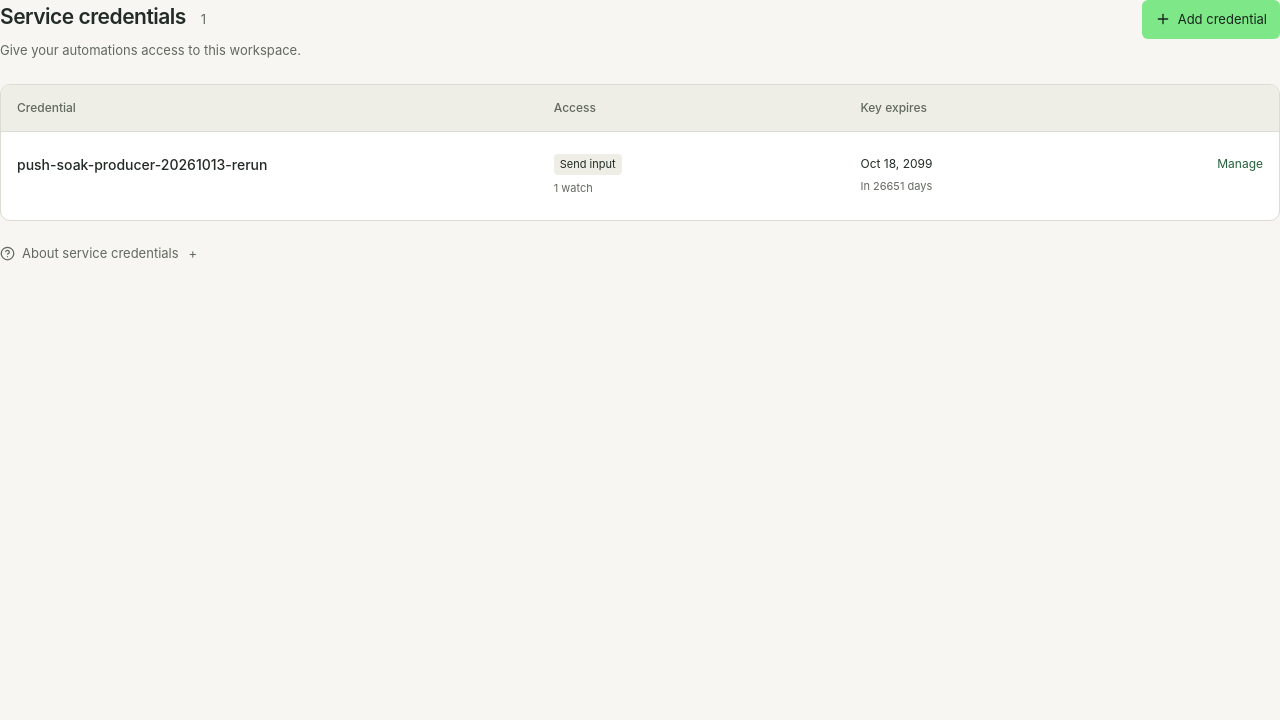
Test: unsupported push access is omitted and clipboard failures allow manual copying
Expected: the button "push-soak-producer-20261013-rerun" is shown, [17,154,267,176]
Click the button "Add credential" at (1211, 19), box [1142,0,1279,39]
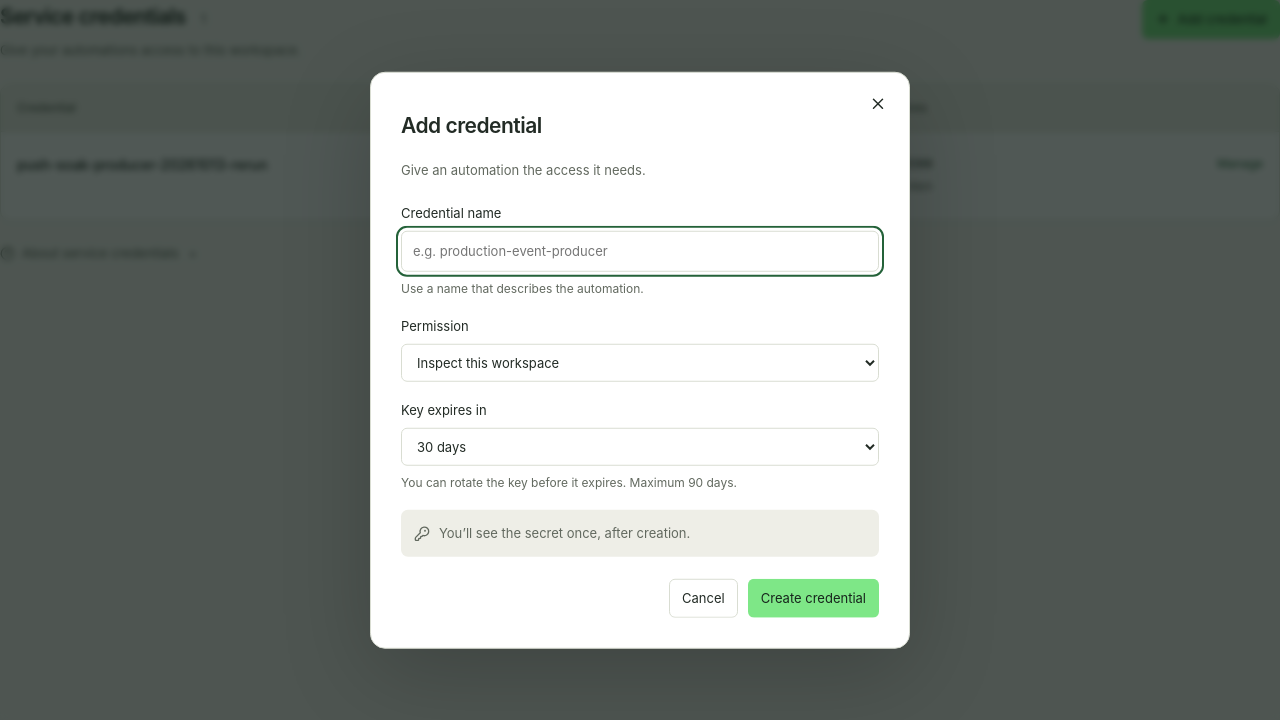
Type "Inspector" into the field labelled "Credential name" at (640, 251), box [401,231,879,272]
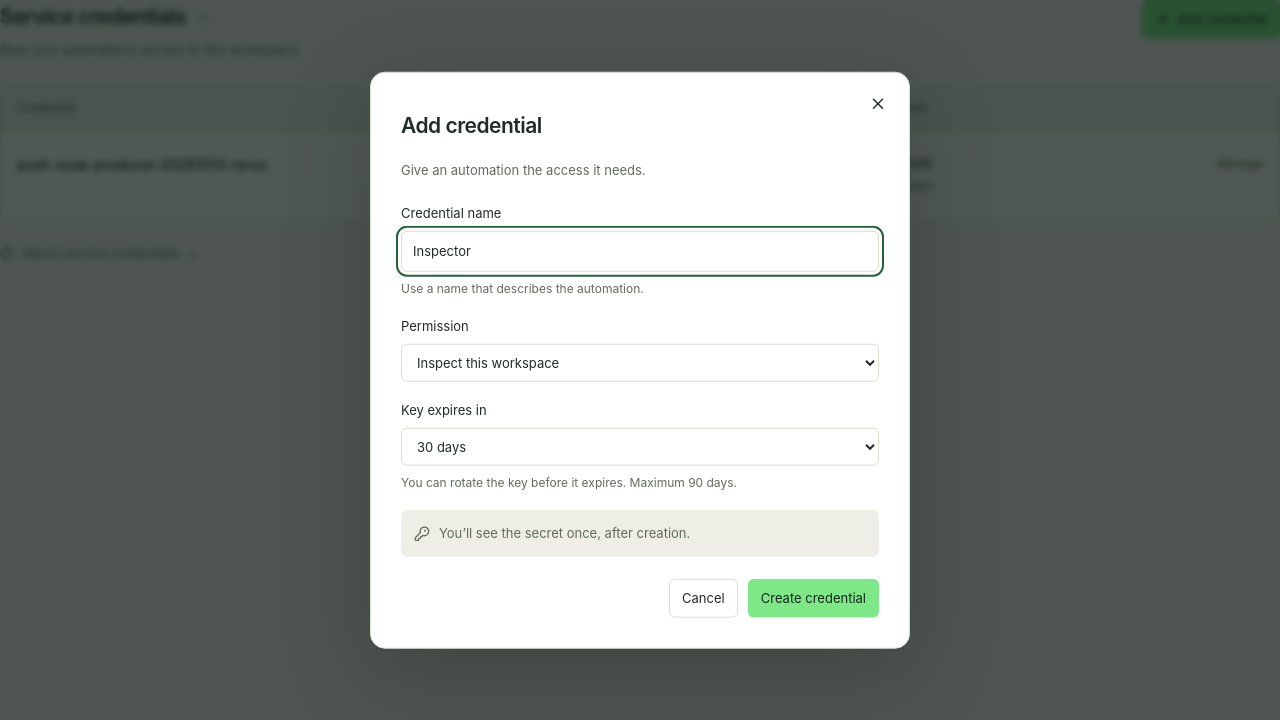
Click the button "Create credential" at (813, 598), box [748,578,879,617]
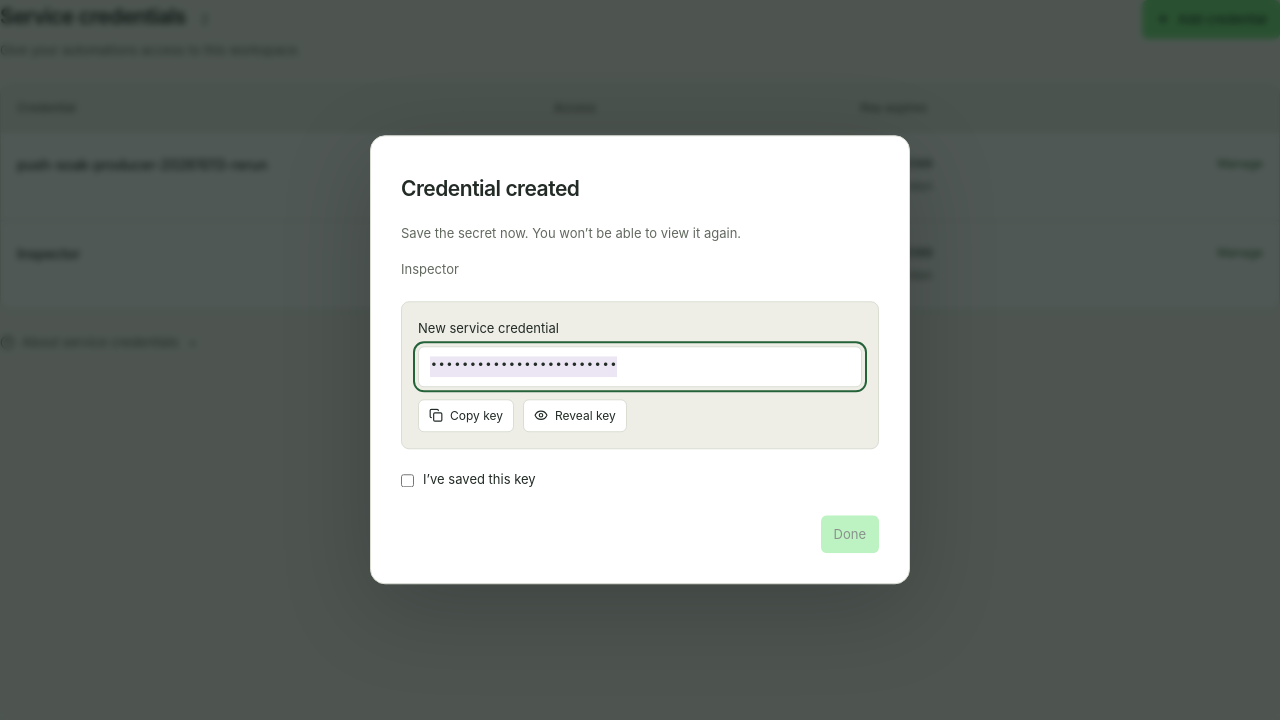
Expected: the dialog "Credential created" is shown, [370,135,910,585]
Click the button "Copy key" at (466, 416), box [418,399,514,432]
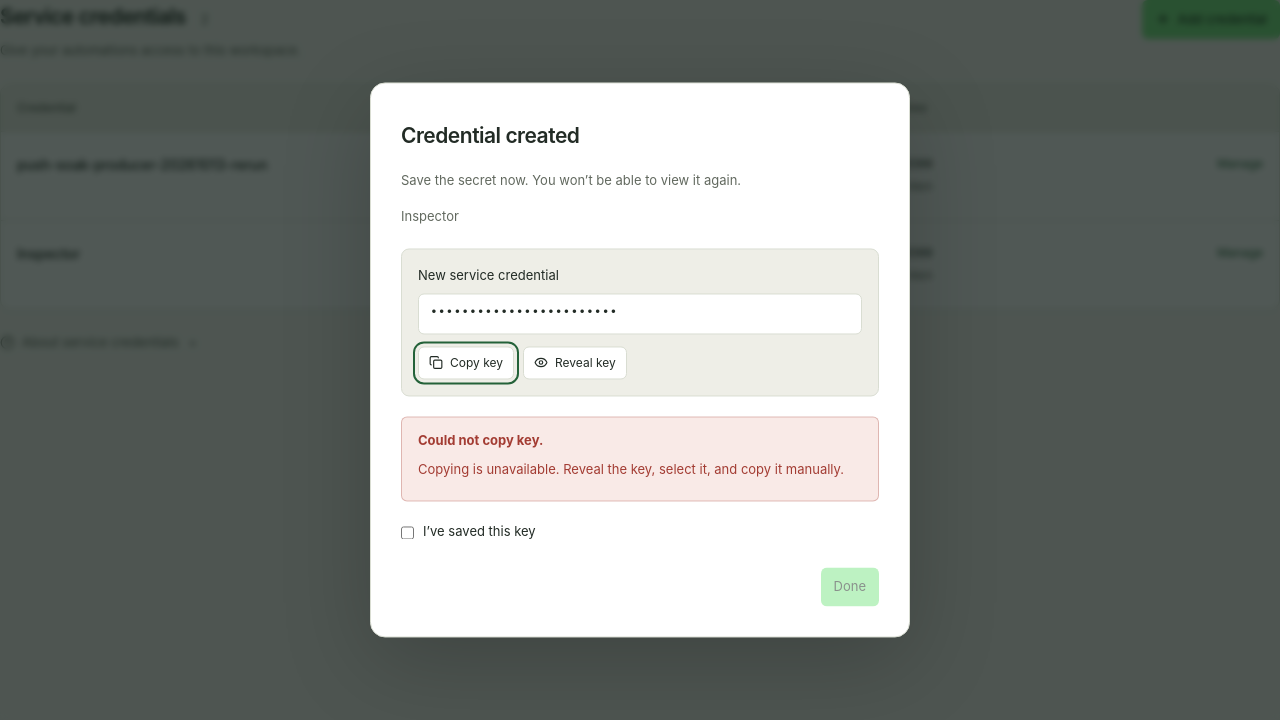
Expected: the message shows "copy it manually", [418,461,844,477]
Click the button "Reveal key" at (575, 363), box [523,346,627,379]
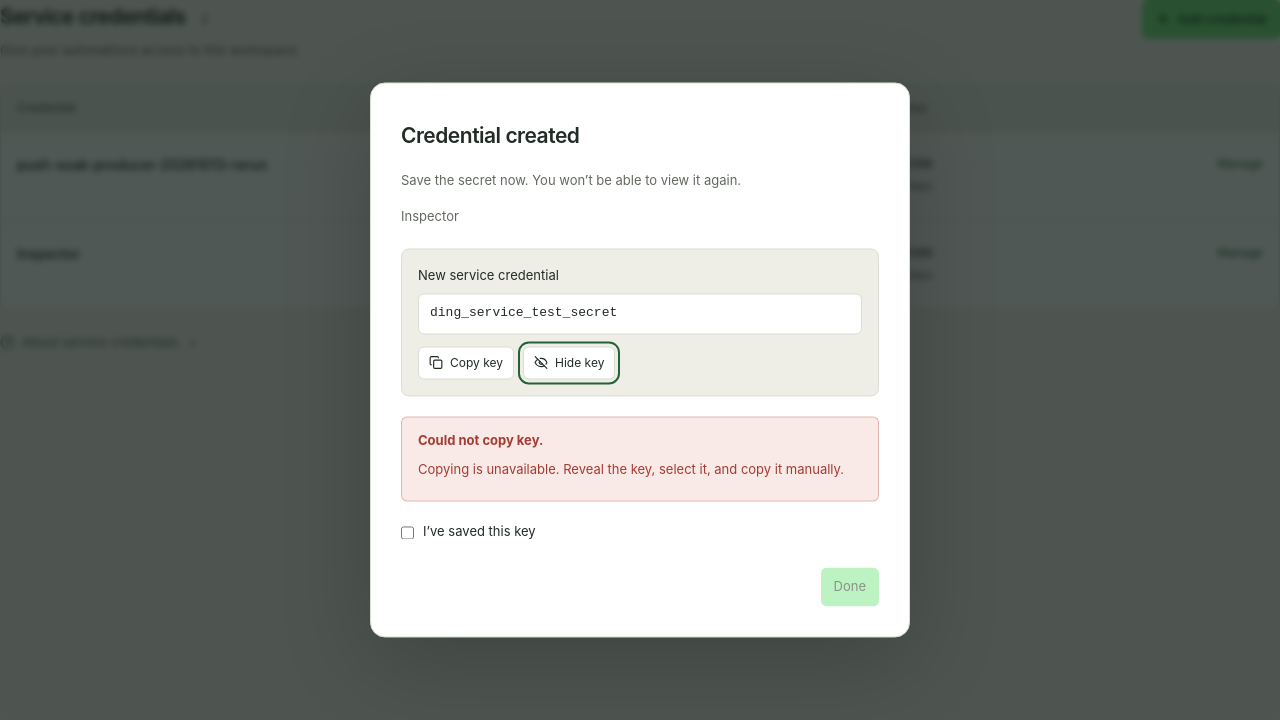
Expected: the field labelled "New service credential" shows its text, [418,293,862,334]
